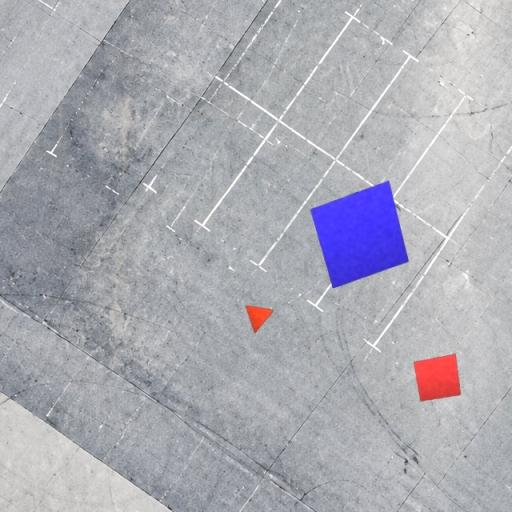BLUE_SQUARE: (310, 180, 410, 290)
RED_SQUARE: (412, 353, 462, 402)
